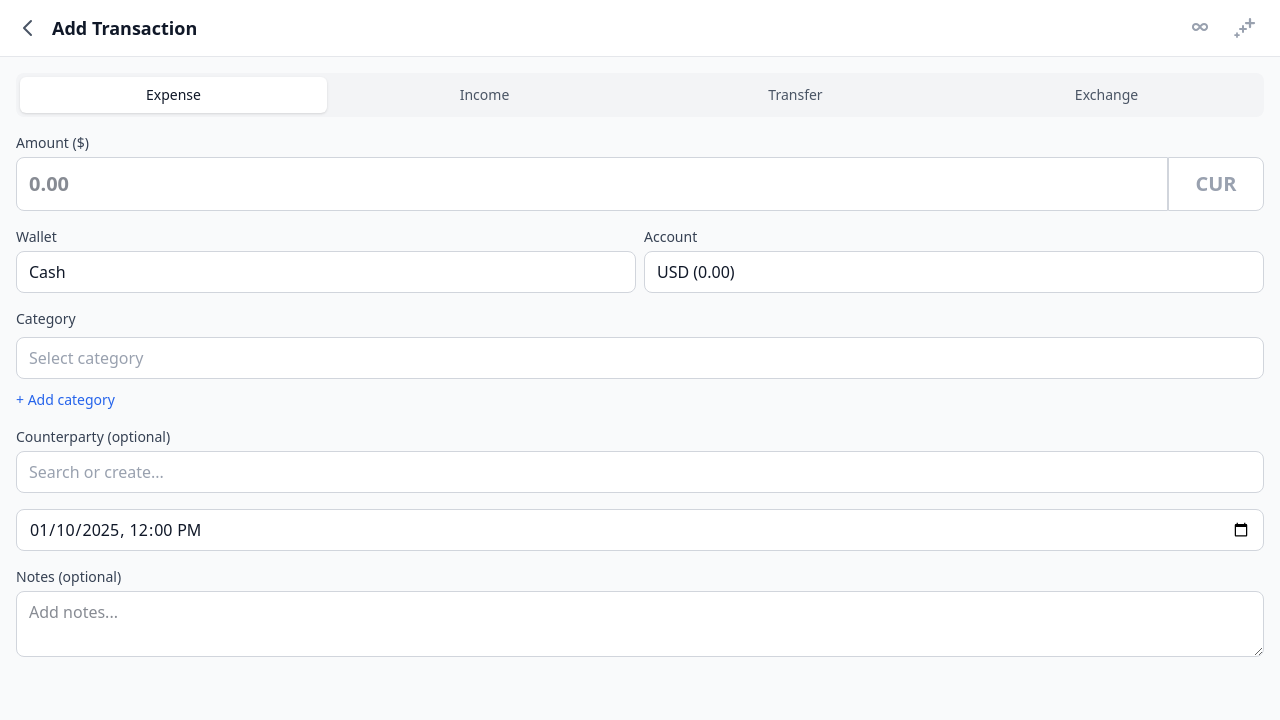
AddTransactionPage › keeps add form open and resets entry fields when Add another is enabled
Expected: the text "Account" is shown, x1=644 y1=227 x2=697 y2=246
Click the button named "add another".
click(1244, 28)  # box x1=1224 y1=8 x2=1264 y2=48
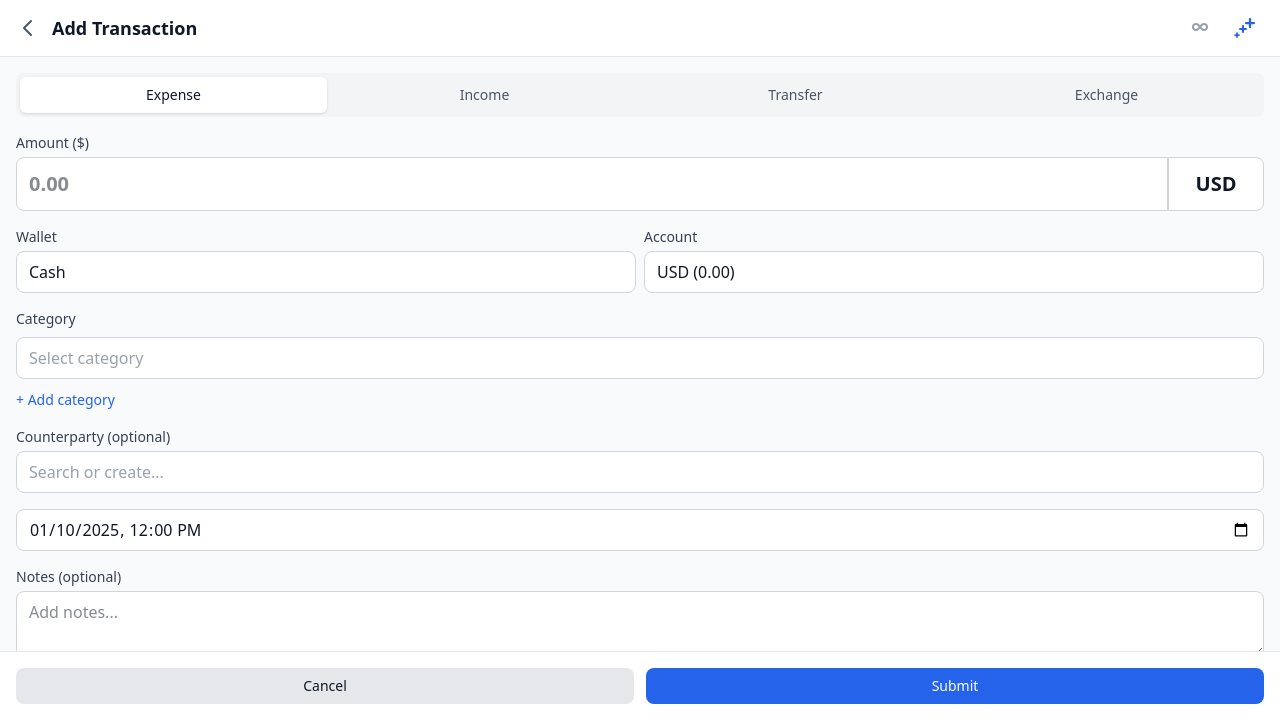
Now the button named "add another" is pressed, box x1=1224 y1=8 x2=1264 y2=48
Type "50" into the number field with placeholder "0.00".
click(592, 184); type("50")  # box x1=16 y1=157 x2=1168 y2=211
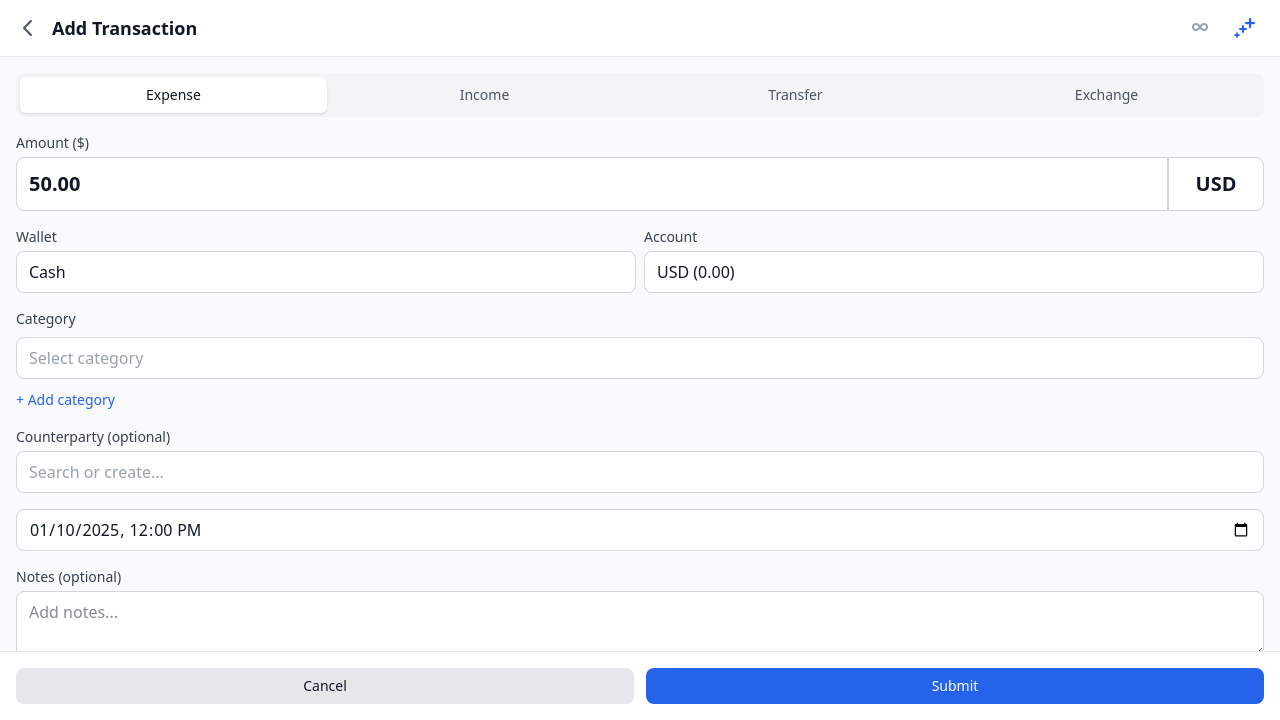
Type "food" into the dropdown with placeholder "Select category".
click(640, 358); type("food")  # box x1=16 y1=337 x2=1264 y2=379
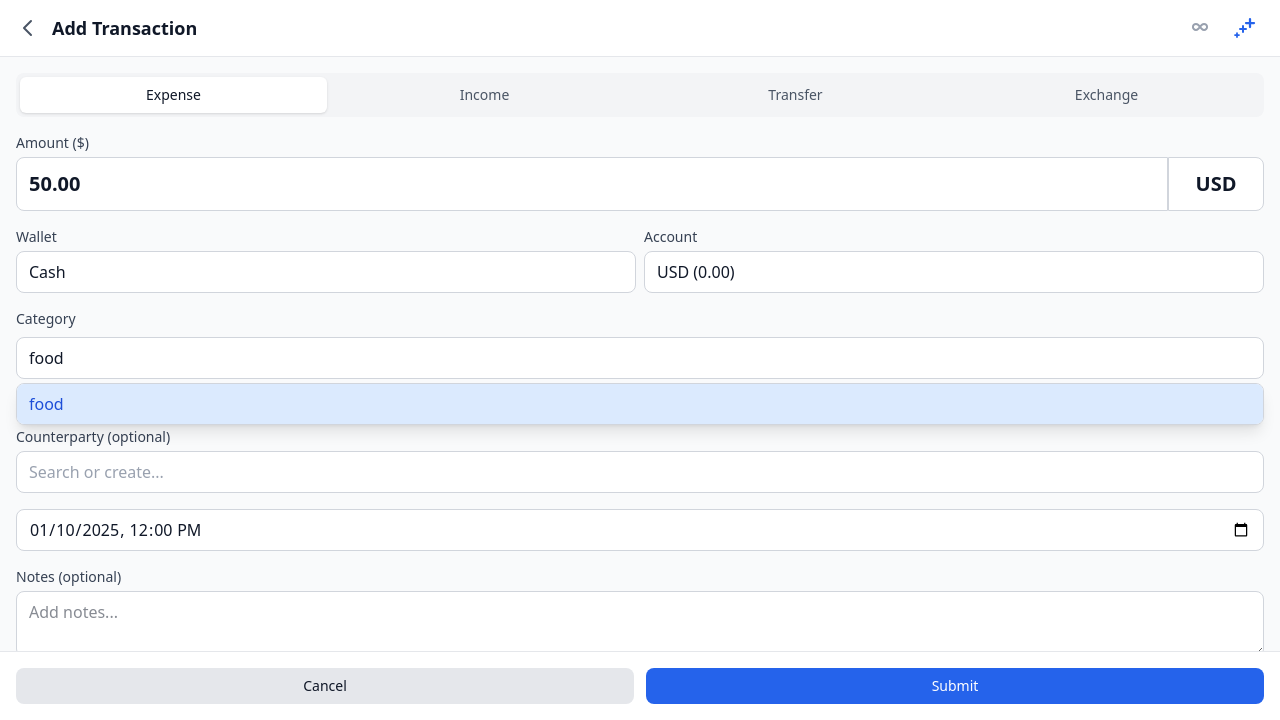
Now the option "food" is shown
Click the option "food".
click(46, 404)  # box x1=17 y1=384 x2=1263 y2=424
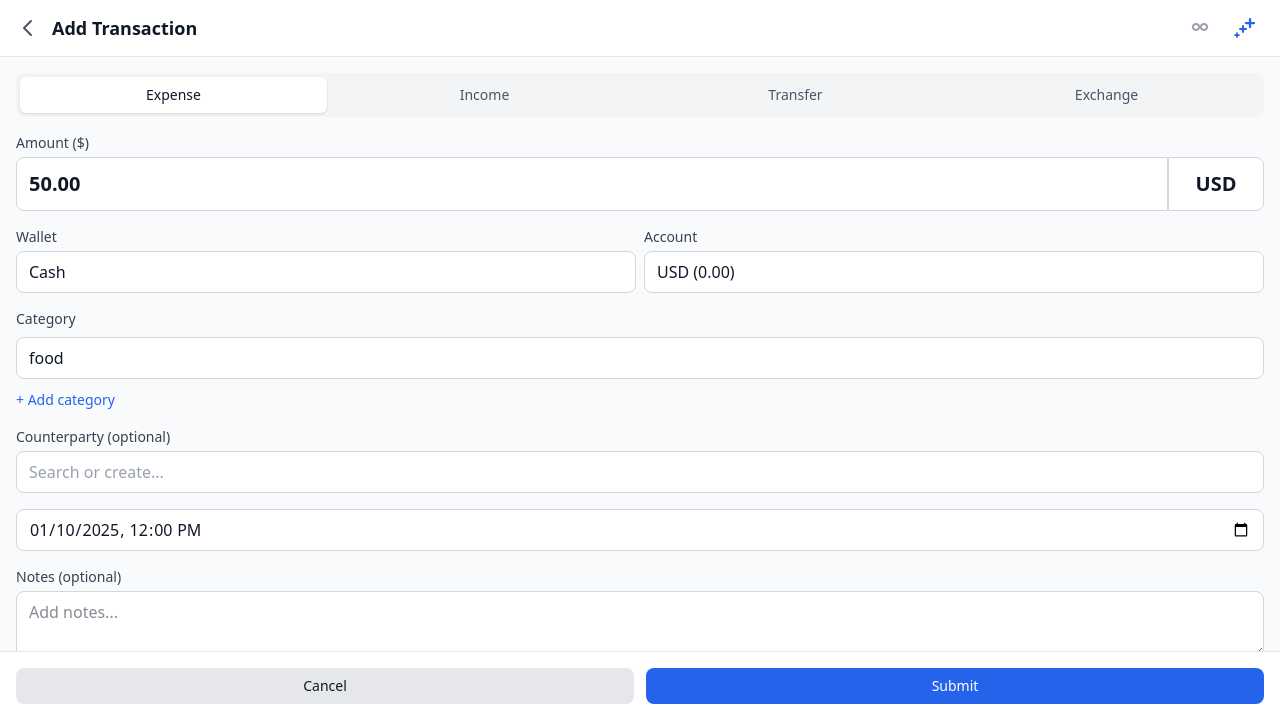
Type "first entry" into the text box with placeholder "Add notes...".
click(640, 624); type("first entry")  # box x1=16 y1=591 x2=1264 y2=657
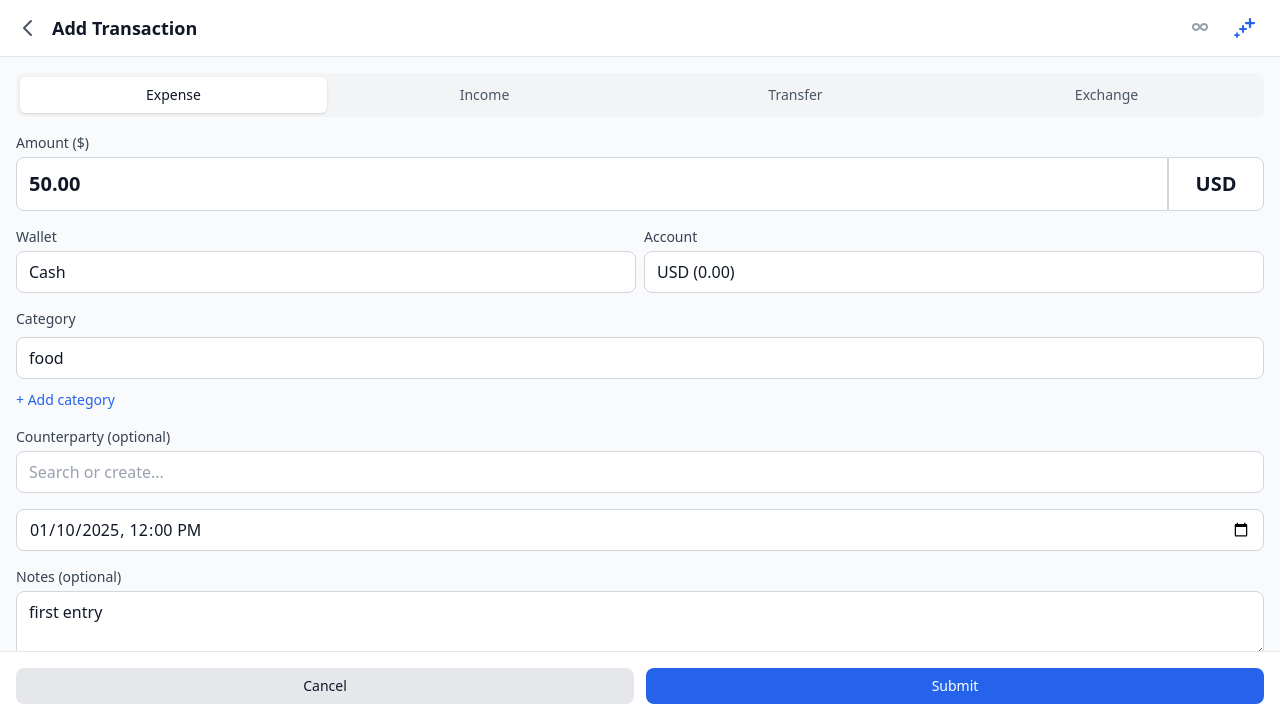
Click the button "Submit".
click(955, 686)  # box x1=646 y1=668 x2=1264 y2=704
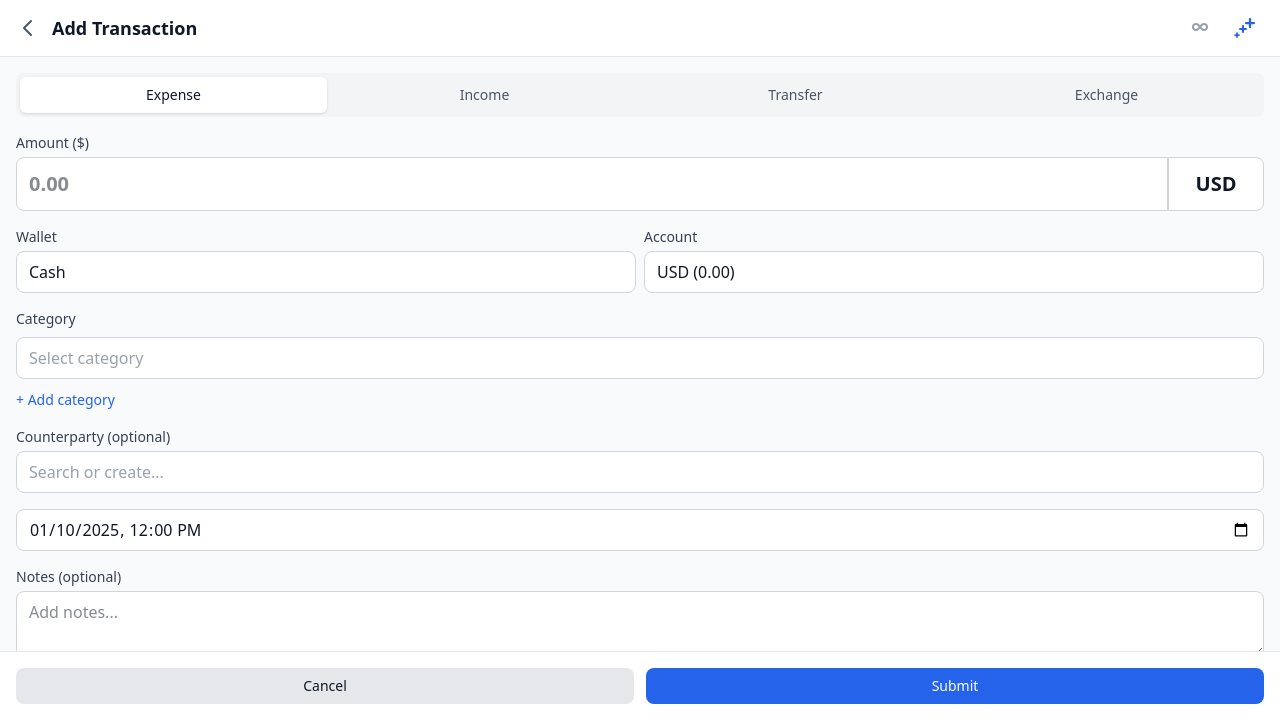
Now the number field with placeholder "0.00" is not empty, box x1=16 y1=157 x2=1168 y2=211
Now the dropdown with placeholder "Select category" is empty, box x1=16 y1=337 x2=1264 y2=379
Now the text box with placeholder "Add notes..." is empty, box x1=16 y1=591 x2=1264 y2=657
